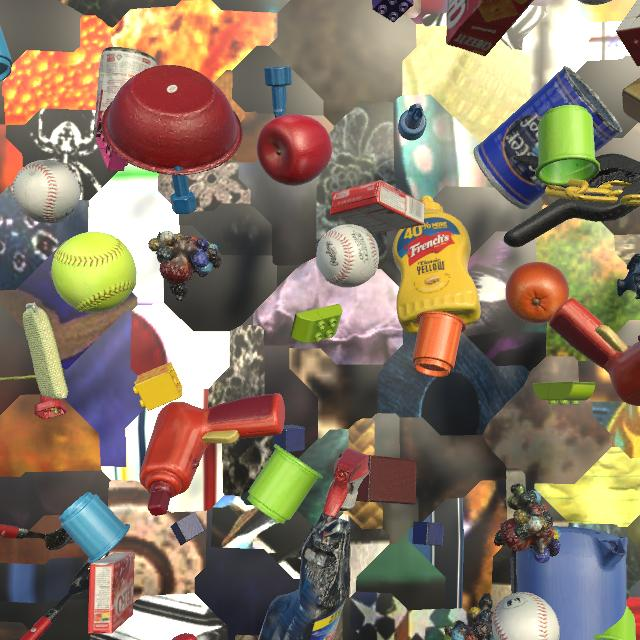ycb_002_master_chef_can: (473, 66, 622, 210)
ycb_003_cracker_box: (446, 0, 534, 56)
ycb_005_tomato_soup_can: (93, 47, 157, 136)
ycb_006_mustard_bottle: (393, 196, 481, 334)
ycb_009_gelatin_box: (330, 180, 425, 234), (88, 552, 135, 634)
ycb_012_strawberry: (171, 633, 197, 640)
ycb_013_apple: (257, 114, 332, 186)
ycb_017_orange: (505, 262, 569, 324)
